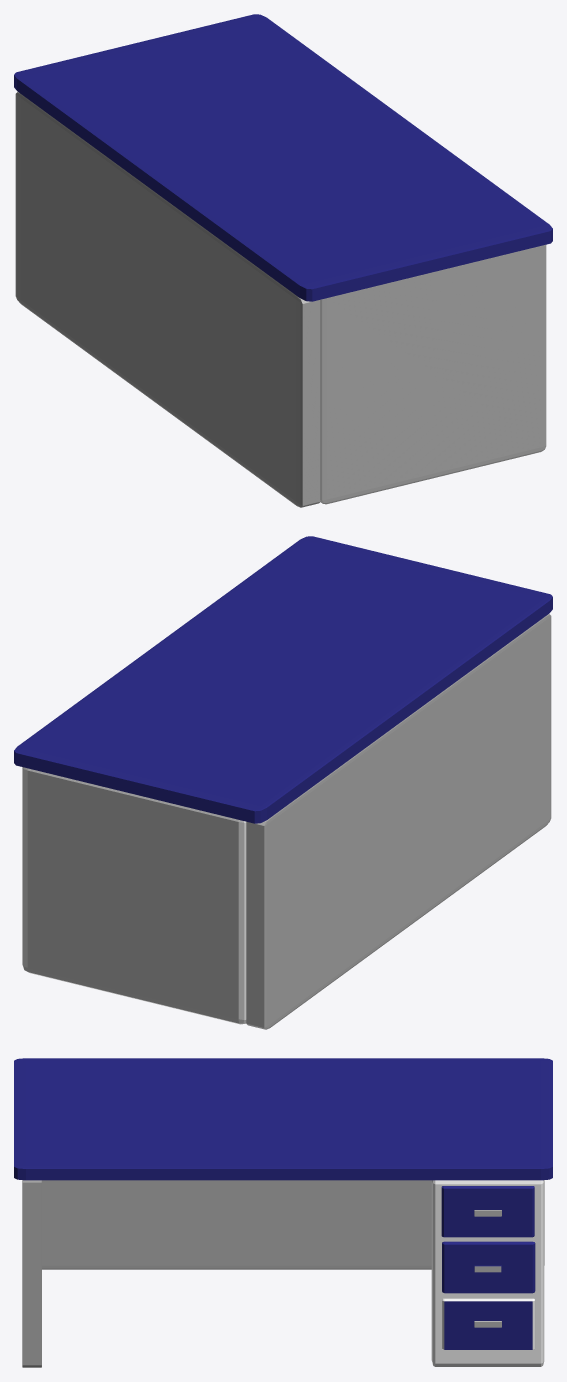
File: mesa2.glb
3 renders of one model, top to bottom at view 1: azimuth 30°, elevation 25°; view 2: azimuth 150°, elevation 25°; view 3: azimuth 270°, elevation 25°, orthographic. The views are drawn at different scales.
Parts seen in each view (by area): view 1: Soft_Escritorio; view 2: Soft_Escritorio; view 3: Soft_Escritorio.
Part boxes in pixels (left/top/right/bottom): Soft_Escritorio: left=14, top=14, right=552, bottom=507; Soft_Escritorio: left=14, top=536, right=552, bottom=1029; Soft_Escritorio: left=14, top=1058, right=552, bottom=1367.
Bounding box in the file's own units: 1 × 0.8549 × 2.05.
